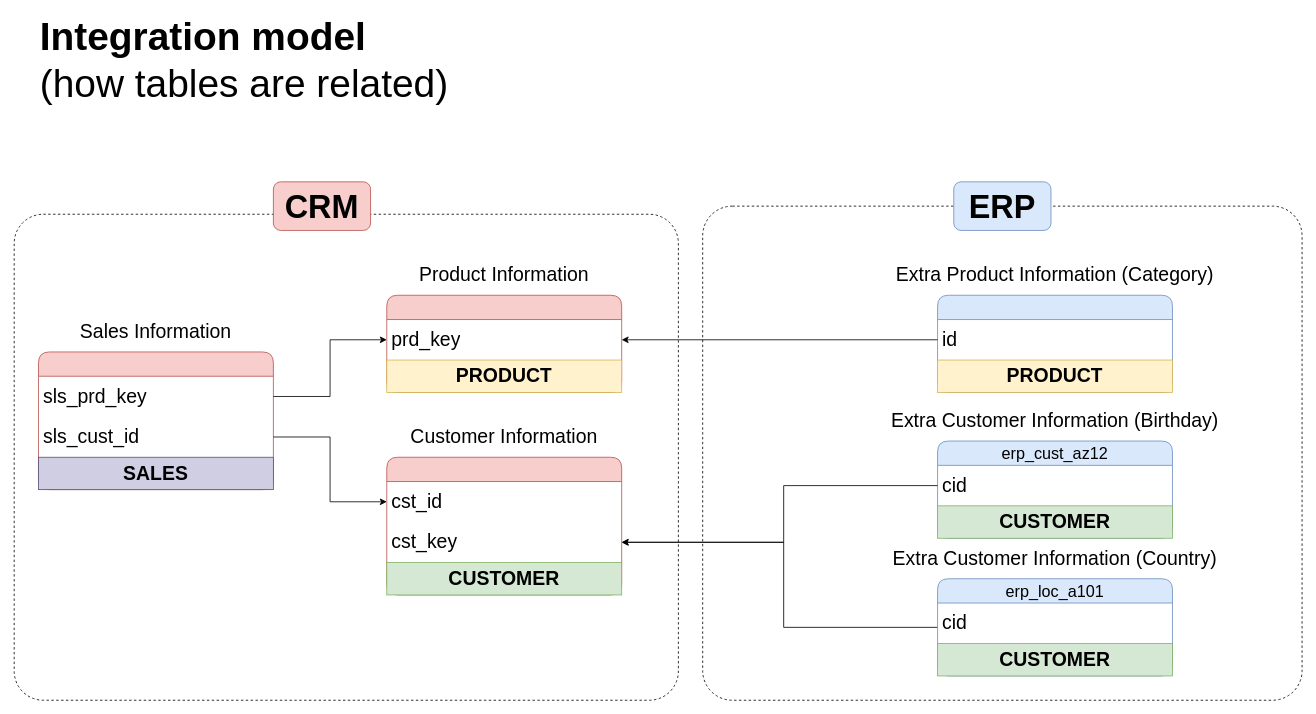
Image size: 1316x714. Some labels were removed from this diagram. Here are the shapes that lost their labels. From the top down, the box of each, then its label:
(386, 294, 622, 392): crm_prd_info
(937, 294, 1172, 392): erp_px_cat_g1v2
(38, 351, 273, 490): crm_sales_details
(386, 456, 622, 595): crm_cust_info
